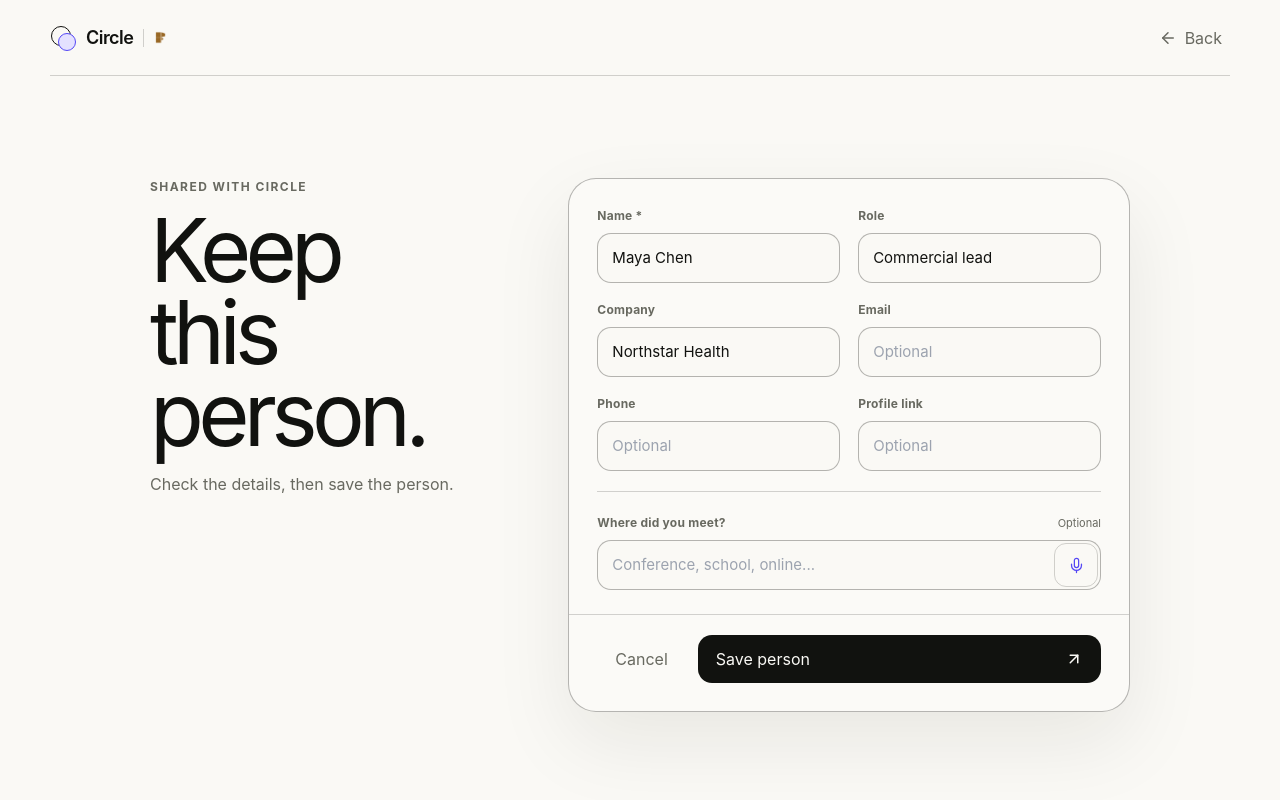
ShareContact › reviews a text share and keeps the person with meeting context
Expected: the heading "Keep this person." is shown, [150,210,466,456]
Expected: the field labelled "Name *" holds "Maya Chen", [597,233,840,283]
In the field labelled "Where did you meet?": (849,565) [597,540,1101,590], type "HealthTech North"
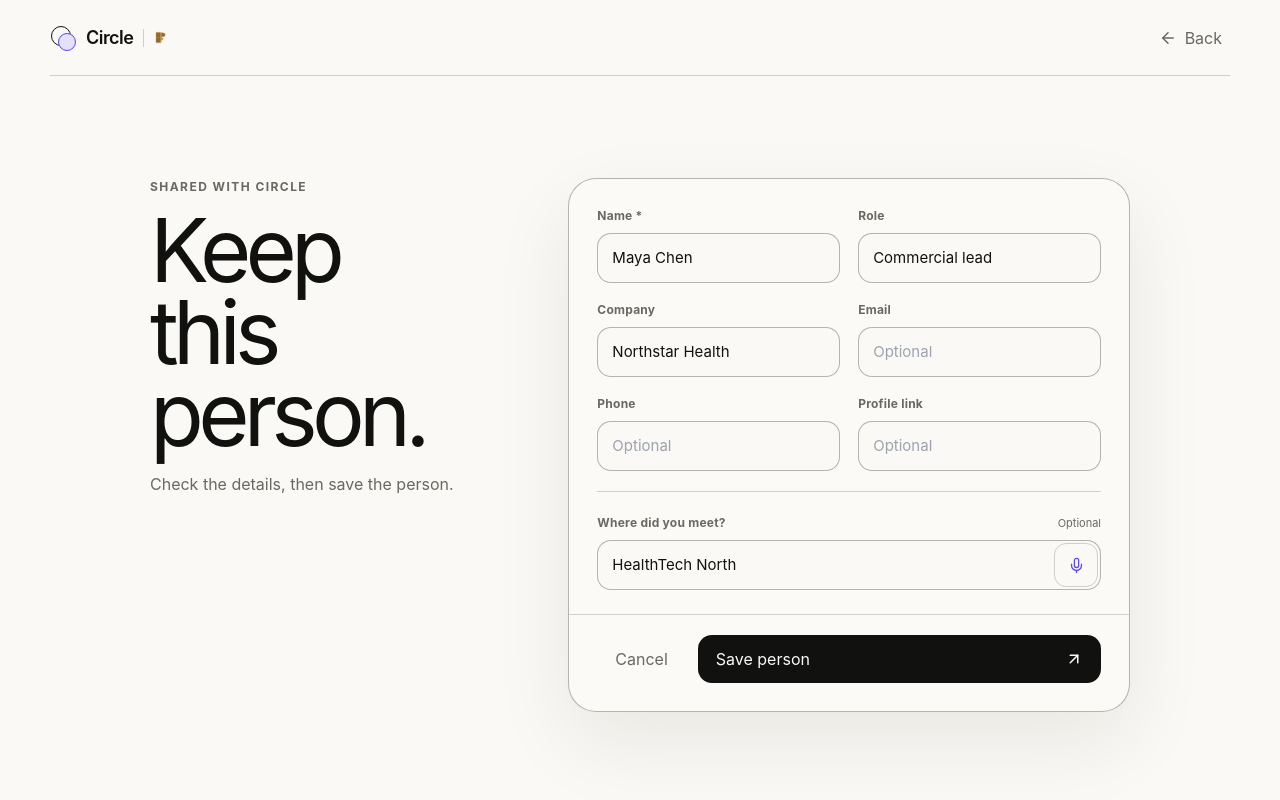
Click the button "Save person": (763,659) [698,635,1101,683]
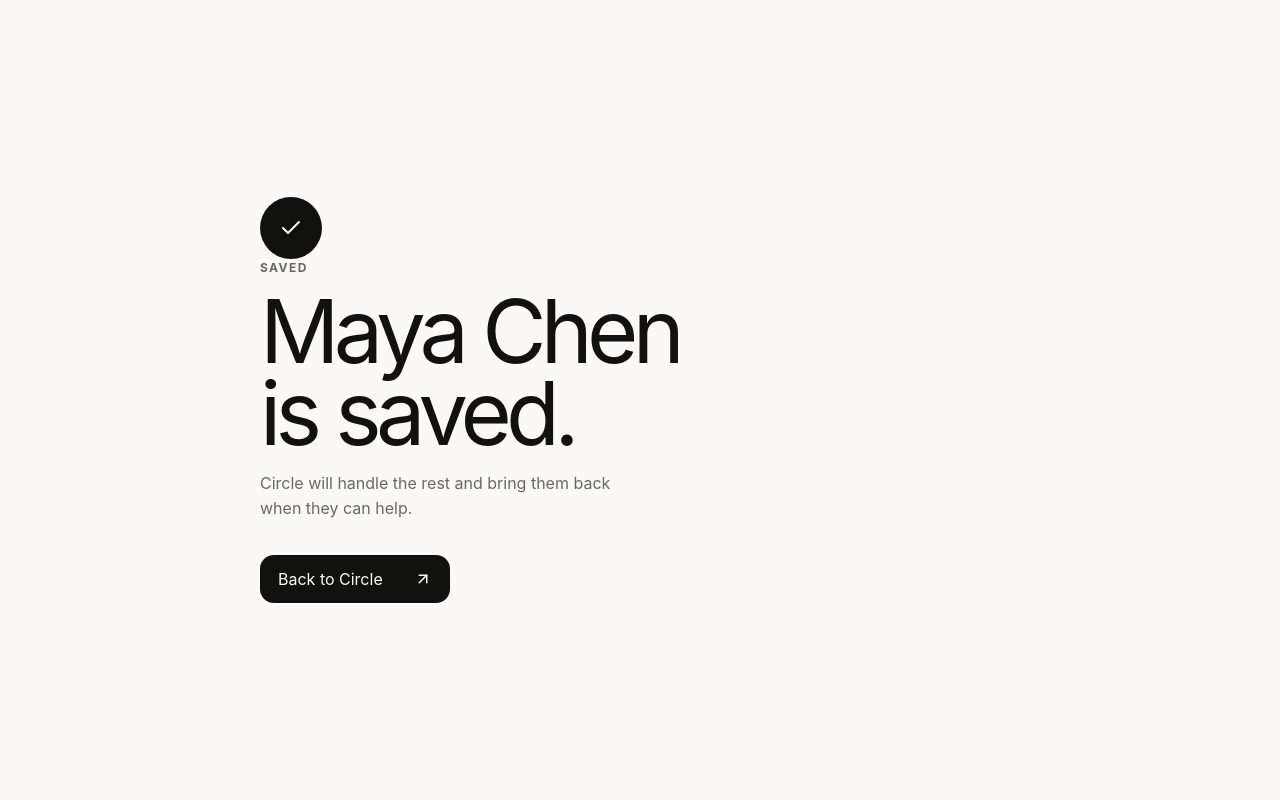
Result: the heading "Maya Chen is saved." is shown at [260,278,679,466]
